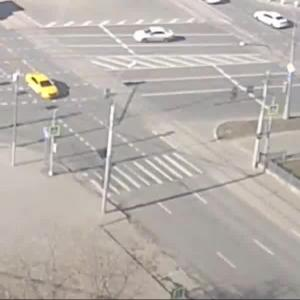car: (26, 74, 62, 101), (132, 25, 176, 46), (254, 9, 291, 33)
